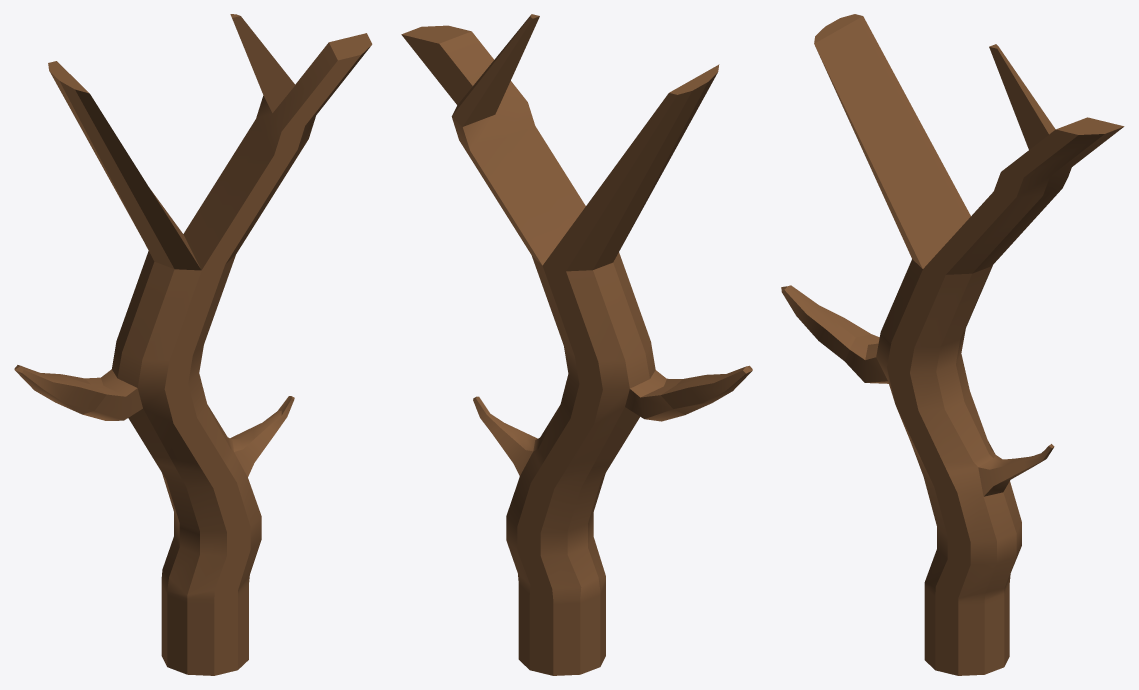
File: notSoLeafyTree.glb
The picture shows the model from 3 angles, left to right: view 1: azimuth 30°, elevation 25°; view 2: azimuth 150°, elevation 25°; view 3: azimuth 330°, elevation 25°; orthographic projection. The views are drawn at different scales.
Visible parts, largest first — view 1: treetrunk; view 2: treetrunk; view 3: treetrunk.
Boxes of the visible parts, x1,y1,x2,y2 form: treetrunk: [14, 14, 372, 675]; treetrunk: [401, 14, 752, 675]; treetrunk: [781, 14, 1124, 675].
Bounding box in the file's own units: 3.82 × 6.59 × 0.7861.
